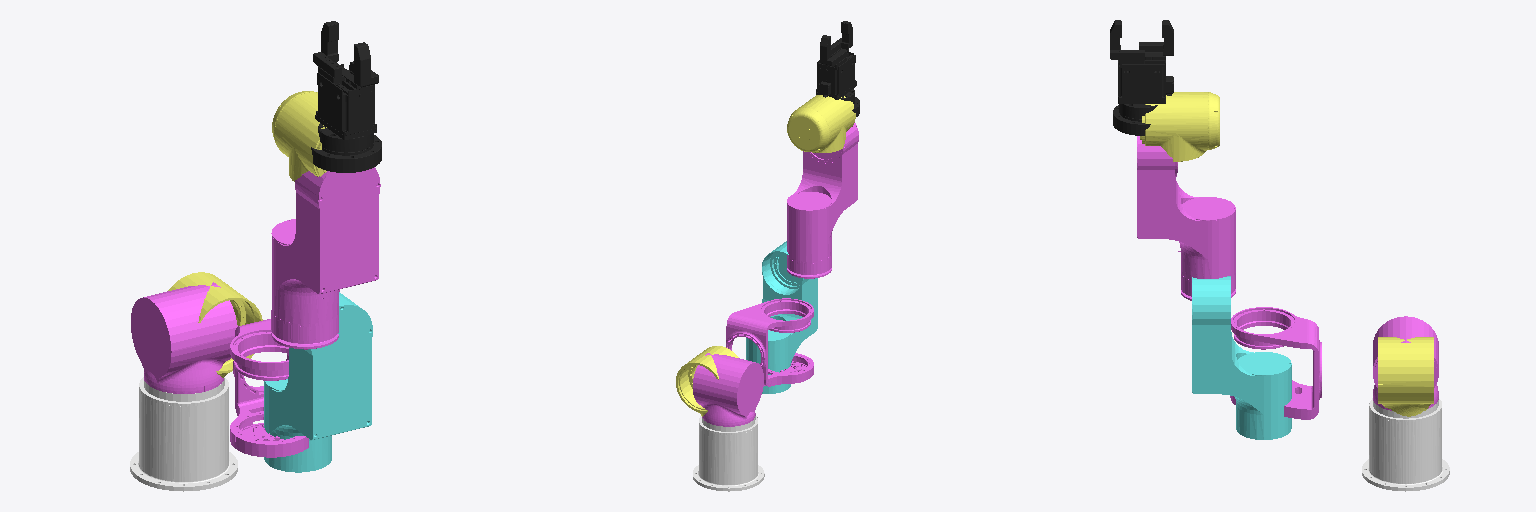
URDF robot description (w10_sim):
<?xml version='1.0' encoding='utf-8'?>
<robot name="w10_sim">
  <link name="base_link">
    <inertial>
      <origin xyz="0 0 0.081676" rpy="0 0 0" />
      <mass value="19.318" />
      <inertia ixx="0.067819" ixy="0" ixz="0" iyy="0.067813" iyz="0" izz="0.04982" />
    </inertial>
    <visual>
      <origin xyz="0 0 0" rpy="0 0 0" />
      <geometry>
        <mesh filename="package://w10_sim/meshes/base_link.STL" />
      </geometry>
      <material name="">
        <color rgba="1 1 1 1" />
      </material>
    </visual>
    <collision>
      <origin xyz="0 0 0" rpy="0 0 0" />
      <geometry>
        <mesh filename="package://w10_sim/meshes/base_link.STL" />
      </geometry>
    </collision>
  </link>
  <link name="Link2">
    <inertial>
      <origin xyz="0.0032675 -3.021E-06 0.085" rpy="0 0 0" />
      <mass value="10.901" />
      <inertia ixx="0.020174" ixy="0" ixz="0" iyy="0.025336" iyz="0" izz="0.025339" />
    </inertial>
    <visual>
      <origin xyz="0 0 0" rpy="0 0 0" />
      <geometry>
        <mesh filename="package://w10_sim/meshes/Link2.STL" />
      </geometry>
      <material name="">
        <color rgba="1 0.49 1 1" />
      </material>
    </visual>
    <collision>
      <origin xyz="0 0 0" rpy="0 0 0" />
      <geometry>
        <mesh filename="package://w10_sim/meshes/Link2.STL" />
      </geometry>
    </collision>
  </link>
  <joint name="joint2" type="continuous">
    <origin xyz="0 0 0.163" rpy="0 0 0" />
    <parent link="base_link" />
    <child link="Link2" />
    <axis xyz="0 0 -1" />
    <limit lower="-3.14" upper="3.14" effort="224" velocity="0" />
  </joint>
  <link name="Link3">
    <inertial>
      <origin xyz="-0.00018944 -0.16588 -0.0024151" rpy="0 0 0" />
      <mass value="18.719" />
      <inertia ixx="0.15689" ixy="0.00036464" ixz="0.00023874" iyy="0.058459" iyz="0.011864" izz="0.14437" />
    </inertial>
    <visual>
      <origin xyz="0 0 0" rpy="0 0 0" />
      <geometry>
        <mesh filename="package://w10_sim/meshes/Link3.STL" />
      </geometry>
      <material name="">
        <color rgba="1 1 0.49 1" />
      </material>
    </visual>
    <collision>
      <origin xyz="0 0 0" rpy="0 0 0" />
      <geometry>
        <mesh filename="package://w10_sim/meshes/Link3.STL" />
      </geometry>
    </collision>
  </link>
  <joint name="joint3" type="revolute">
    <origin xyz="0 0 0.085" rpy="0 0 0" />
    <parent link="Link2" />
    <child link="Link3" />
    <axis xyz="0 0 -1" />
    <limit lower="-1.8" upper="1.8" effort="224" velocity="0" />
  </joint>
  <link name="Link4">
    <inertial>
      <origin xyz="0.034074 -0.0039348 0.10793" rpy="0 0 0" />
      <mass value="17.534" />
      <inertia ixx="0.073159" ixy="0.0010879" ixz="-0.018036" iyy="0.080913" iyz="0.0025355" izz="0.043499" />
    </inertial>
    <visual>
      <origin xyz="0 0 0" rpy="0 0 0" />
      <geometry>
        <mesh filename="package://w10_sim/meshes/Link4.STL" />
      </geometry>
      <material name="">
        <color rgba="1 0.49 1 1" />
      </material>
    </visual>
    <collision>
      <origin xyz="0 0 0" rpy="0 0 0" />
      <geometry>
        <mesh filename="package://w10_sim/meshes/Link4.STL" />
      </geometry>
    </collision>
  </link>
  <joint name="joint4" type="continuous">
    <origin xyz="0 -0.2815 8.9457E-05" rpy="0 0 0" />
    <parent link="Link3" />
    <child link="Link4" />
    <axis xyz="0 0 -1" />
    <limit lower="-3.14" upper="3.14" effort="112" velocity="0" />
  </joint>
  <link name="Link5">
    <inertial>
      <origin xyz="-0.023914 -0.040467 -0.010198" rpy="0 0 0" />
      <mass value="7.087" />
      <inertia ixx="0.049793" ixy="-0.0076933" ixz="0.00031262" iyy="0.041831" iyz="0.0013761" izz="0.032075" />
    </inertial>
    <visual>
      <origin xyz="0 0 0" rpy="0 0 0" />
      <geometry>
        <mesh filename="package://w10_sim/meshes/Link5.STL" />
      </geometry>
      <material name="">
        <color rgba="0.49 1 1 1" />
      </material>
    </visual>
    <collision>
      <origin xyz="0 0 0" rpy="0 0 0" />
      <geometry>
        <mesh filename="package://w10_sim/meshes/Link5.STL" />
      </geometry>
    </collision>
  </link>
  <joint name="joint5" type="revolute">
    <origin xyz="0.050005 -8.944E-05 0.1435" rpy="0 0 0" />
    <parent link="Link4" />
    <child link="Link5" />
    <axis xyz="0 0 -1" />
    <limit lower="-2.2" upper="1.5" effort="112" velocity="0" />
  </joint>
  <link name="Link6">
    <inertial>
      <origin xyz="-1.0355E-05 -0.052363 0.17582" rpy="0 0 0" />
      <mass value="27.001" />
      <inertia ixx="0.2404" ixy="0" ixz="0" iyy="0.1908" iyz="0.078383" izz="0.097801" />
    </inertial>
    <visual>
      <origin xyz="0 0 0" rpy="0 0 0" />
      <geometry>
        <mesh filename="package://w10_sim/meshes/Link6.STL" />
      </geometry>
      <material name="">
        <color rgba="1 0.49 1 1" />
      </material>
    </visual>
    <collision>
      <origin xyz="0 0 0" rpy="0 0 0" />
      <geometry>
        <mesh filename="package://w10_sim/meshes/Link6.STL" />
      </geometry>
    </collision>
  </link>
  <joint name="joint6" type="continuous">
    <origin xyz="-0.049995 -0.1105 1.2129E-05" rpy="0 0 0" />
    <parent link="Link5" />
    <child link="Link6" />
    <axis xyz="0 0 -1" />
    <limit lower="-3.14" upper="3.14" effort="35" velocity="0" />
  </joint>
  <link name="Link7">
    <inertial>
      <origin xyz="-0.00019188 -0.0058756 0.058824" rpy="0 0 0" />
      <mass value="9.0817" />
      <inertia ixx="0.018158" ixy="-2.0465E-05" ixz="1.6188E-05" iyy="0.013437" iyz="5.5083E-06" izz="0.01858" />
    </inertial>
    <visual>
      <origin xyz="0 0 0" rpy="0 0 0" />
      <geometry>
        <mesh filename="package://w10_sim/meshes/Link7.STL" />
      </geometry>
      <material name="">
        <color rgba="1 1 0.49 1" />
      </material>
    </visual>
    <collision>
      <origin xyz="0 0 0" rpy="0 0 0" />
      <geometry>
        <mesh filename="package://w10_sim/meshes/Link7.STL" />
      </geometry>
    </collision>
  </link>
  <joint name="joint7" type="revolute">
    <origin xyz="0 -0.062949 0.3162" rpy="0 0 0" />
    <parent link="Link6" />
    <child link="Link7" />
    <axis xyz="0 0 -1" />
    <limit lower="-1.8" upper="1.8" effort="35" velocity="0" />
  </joint>
  <link name="Link8">
    <inertial>
      <origin xyz="0.00010886 0.00095891 0.081689" rpy="0 0 0" />
      <mass value="5.9998" />
      <inertia ixx="0.004627" ixy="-6.3264E-05" ixz="1.7802E-06" iyy="0.0032324" iyz="-6.4806E-06" izz="0.0062846" />
    </inertial>
    <visual>
      <origin xyz="0 0 0" rpy="0 0 0" />
      <geometry>
        <mesh filename="package://w10_sim/meshes/Link8.STL" />
      </geometry>
      <material name="">
        <color rgba="0.2 0.2 0.2 1" />
      </material>
    </visual>
    <collision>
      <origin xyz="0 0 0" rpy="0 0 0" />
      <geometry>
        <mesh filename="package://w10_sim/meshes/Link8.STL" />
      </geometry>
    </collision>
  </link>
  <joint name="joint8" type="continuous">
    <origin xyz="0 -0.0684 0.062" rpy="0 0 0" />
    <parent link="Link7" />
    <child link="Link8" />
    <axis xyz="0 0 -1" />
    <limit lower="-3.14" upper="3.14" effort="35" velocity="0" />
  </joint>
  
  <link name="link_tcp">
    <inertial>
      <origin xyz="0 0 0" rpy="0 0 0" />
      <mass value="0.001" />
      <inertia ixx="0.00001" ixy="0" ixz="0" iyy="0.00001" iyz="0" izz="0.00001" />
    </inertial>
  </link>
  <joint name="tcp_joint" type="fixed">
    <origin xyz="0 0 0.05" rpy="0 0 0" />
    <parent link="Link8" />
    <child link="link_tcp" />
  </joint>
</robot>

--- What the picture shows (computed from the rendered views, not written in the file) ---
The picture shows the robot from 3 angles, left to right: view 1: azimuth 30°, elevation 25°; view 2: azimuth 150°, elevation 25°; view 3: azimuth 270°, elevation 25°; orthographic projection.
Robot: w10_sim — 9 links, 8 joints (3 revolute, 4 continuous, 1 fixed); root link base_link; default pose: every joint at zero.
Visible links, largest first — view 1: Link6, Link5, base_link, Link2, Link8, Link4, Link7, Link3; view 2: Link6, base_link, Link5, Link2, Link4, Link7, Link8, Link3; view 3: Link5, Link6, base_link, Link8, Link4, Link7, Link3, Link2.
Boxes of the visible links, <box> form: Link6: <box>271,167,380,349</box>; Link5: <box>264,292,372,472</box>; base_link: <box>130,377,237,491</box>; Link2: <box>131,282,237,393</box>; Link8: <box>311,21,381,172</box>; Link4: <box>230,319,308,457</box>; Link7: <box>272,91,326,181</box>; Link3: <box>168,272,262,377</box>; Link6: <box>787,123,858,278</box>; base_link: <box>693,416,764,491</box>; Link5: <box>746,241,817,393</box>; Link2: <box>693,353,763,426</box>; Link4: <box>726,298,813,386</box>; Link7: <box>787,95,855,152</box>; Link8: <box>816,21,859,116</box>; Link3: <box>676,346,738,416</box>; Link5: <box>1192,276,1291,439</box>; Link6: <box>1137,136,1235,300</box>; base_link: <box>1362,398,1449,491</box>; Link8: <box>1110,20,1173,135</box>; Link4: <box>1230,307,1321,419</box>; Link7: <box>1140,92,1219,161</box>; Link3: <box>1378,337,1433,416</box>; Link2: <box>1373,316,1438,410</box>.
Bounding box of the posed robot: 0.2035 × 0.6744 × 0.9858 m (x, y, z).
Meshes: 8 distinct files referenced, 8 mesh visuals loaded (8 binary STL).
